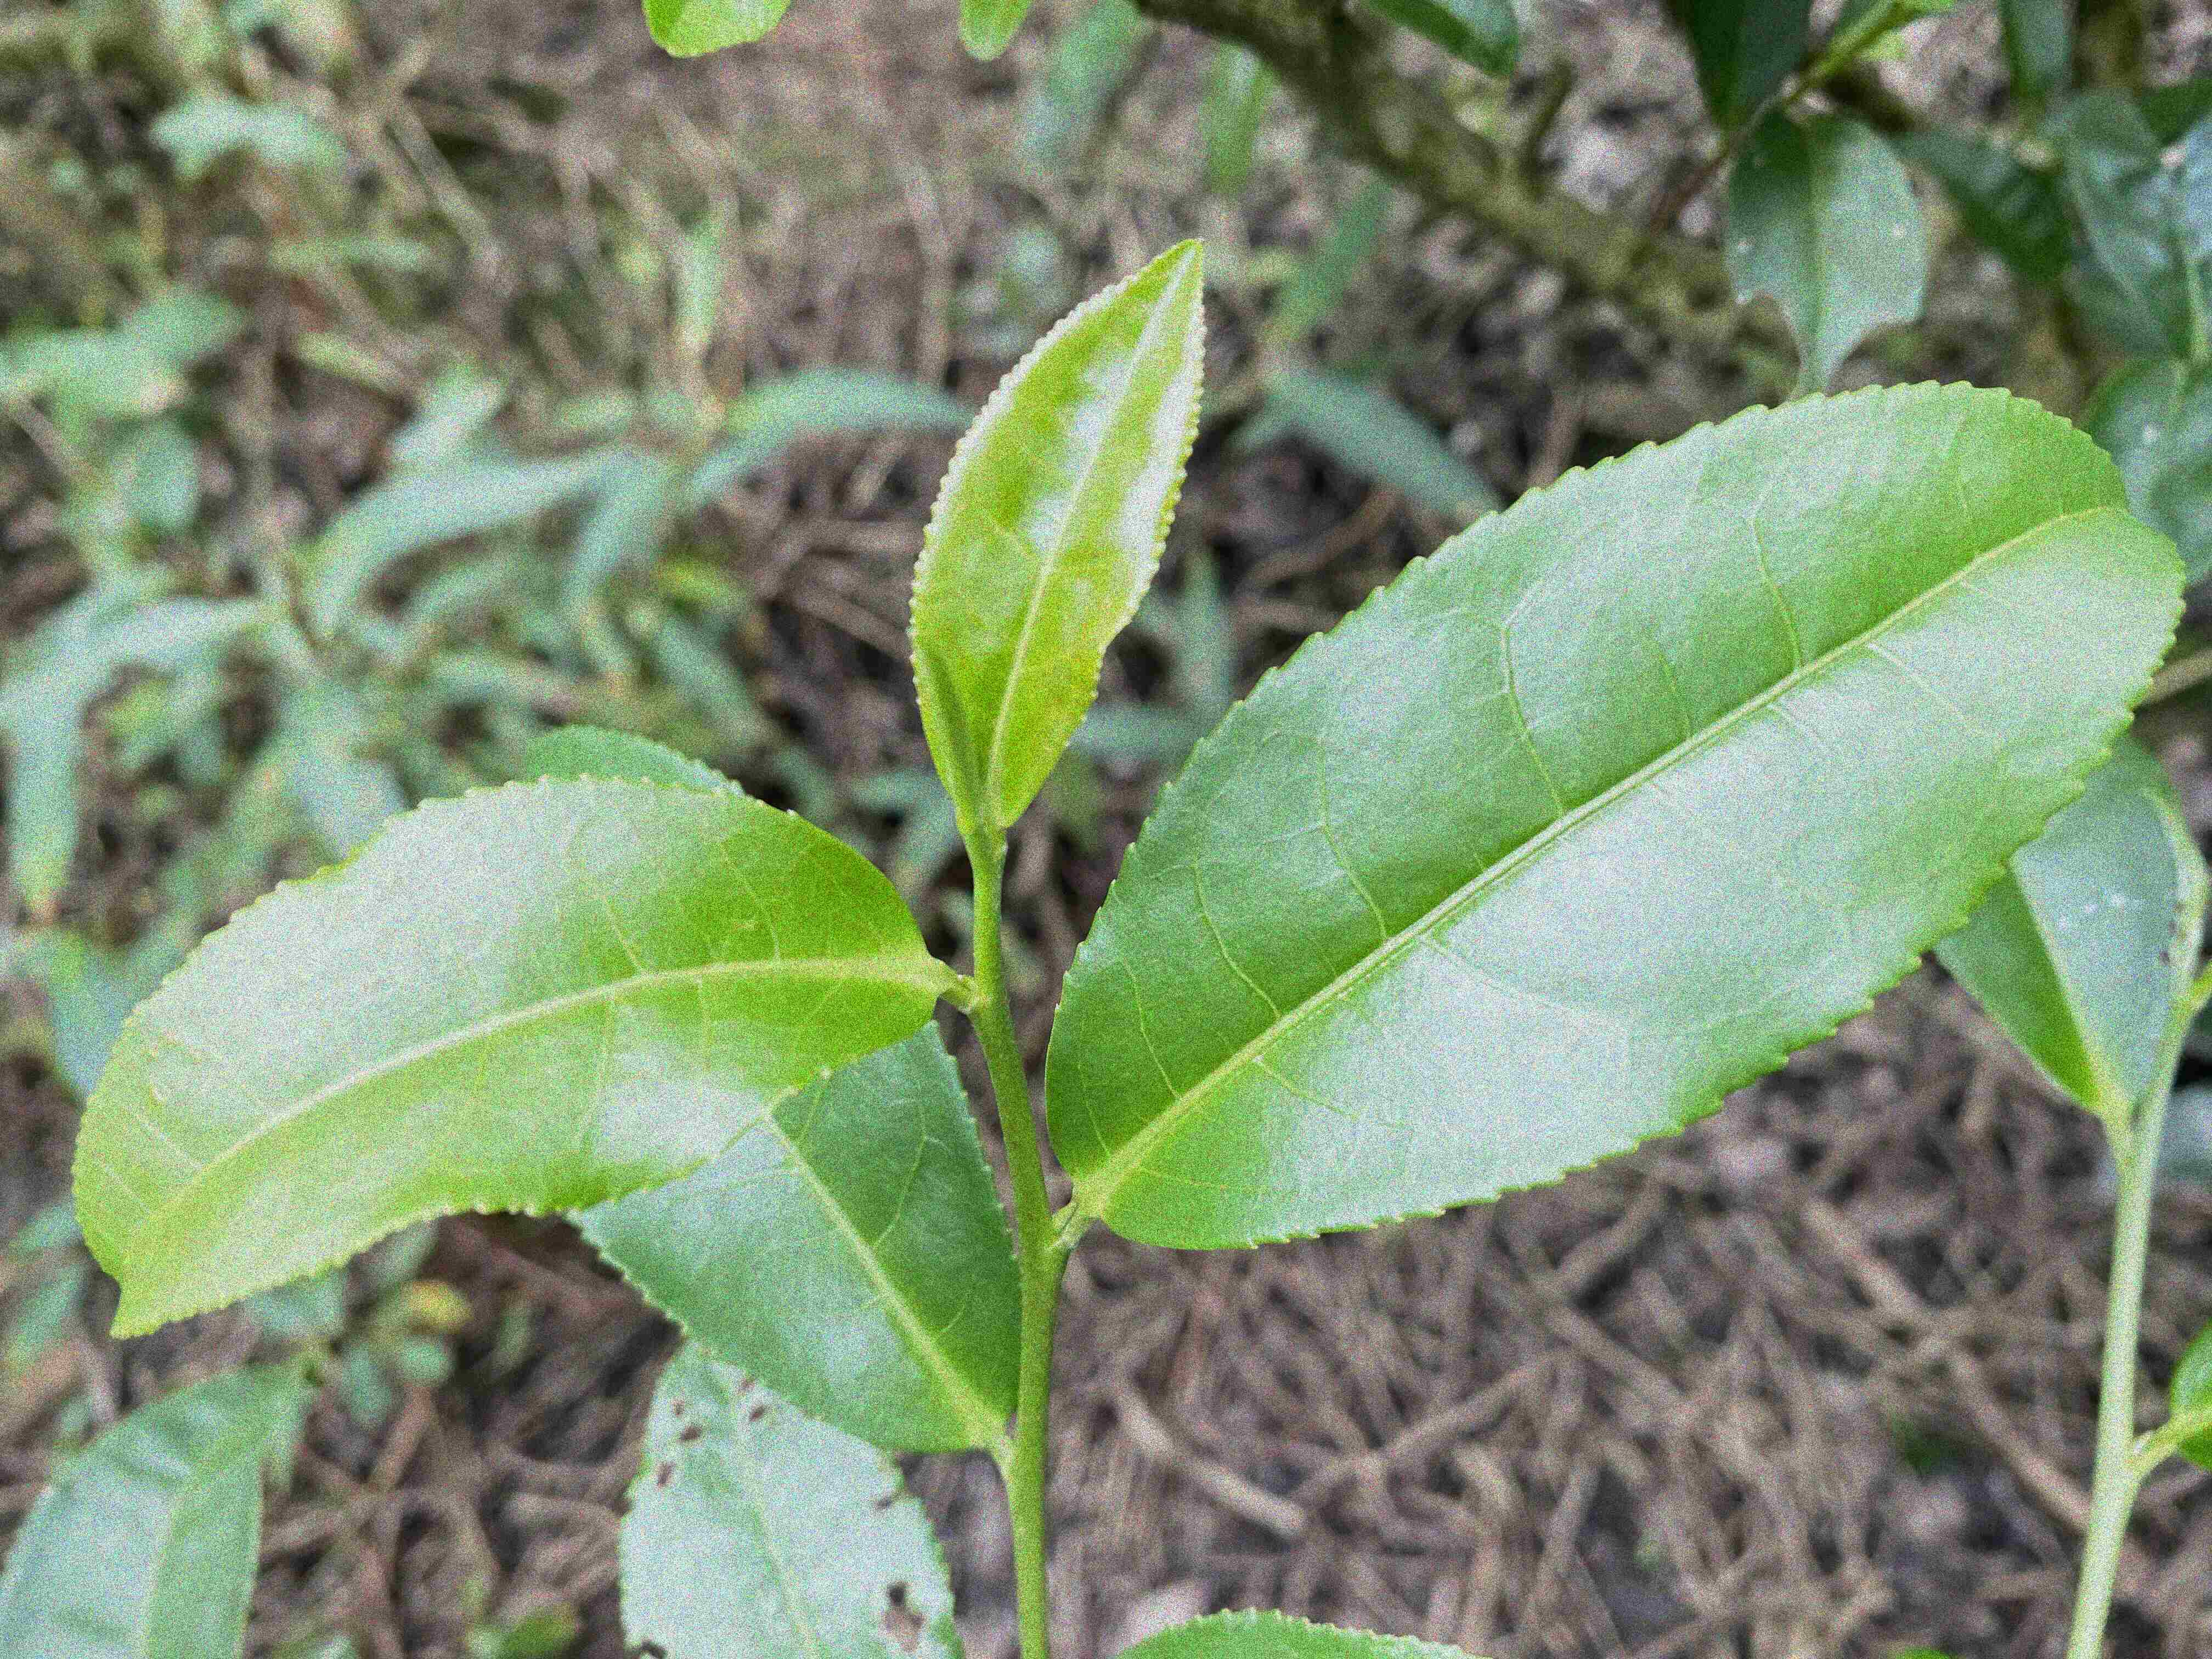chihuo_high: (613, 1338, 967, 1657)
healthy: (1042, 375, 2193, 1253), (68, 770, 937, 1342), (524, 727, 1019, 1455), (906, 235, 1212, 826)
